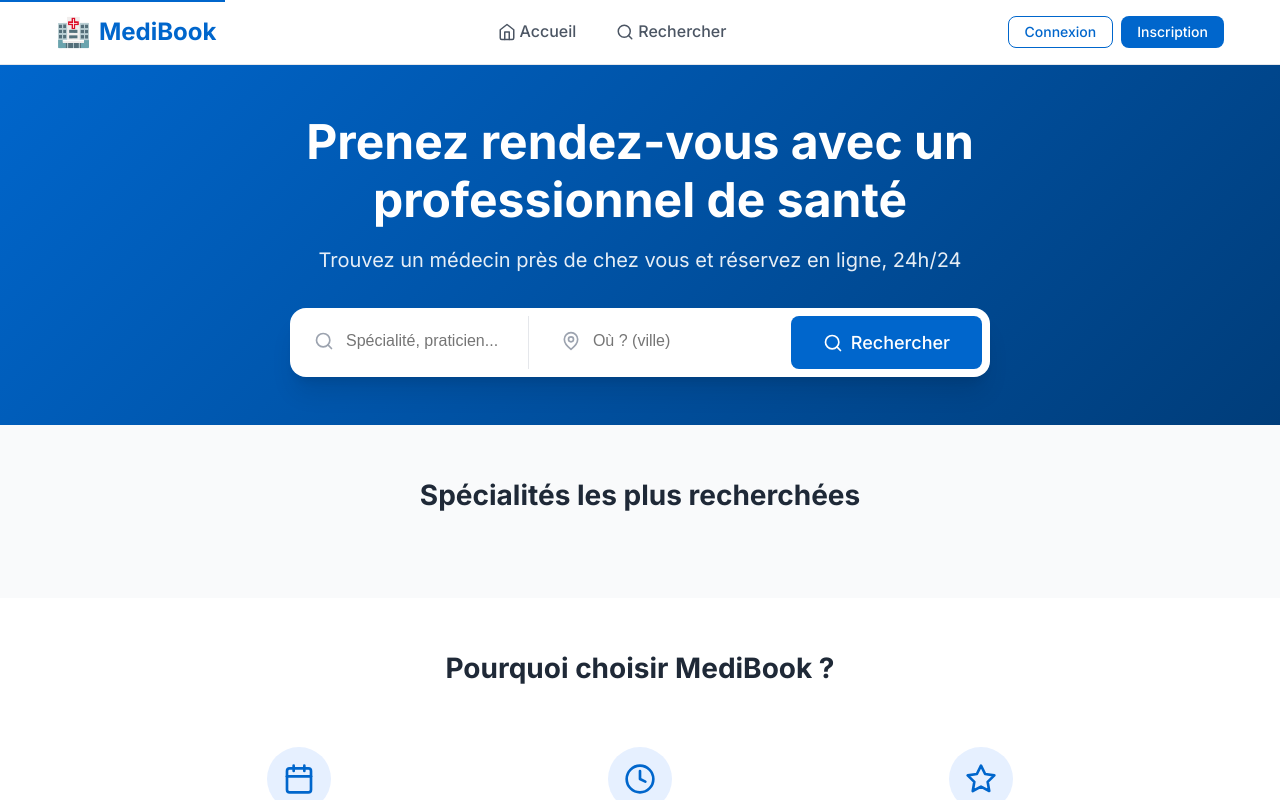
Recherche de praticien › Recherche sans résultat
This screenshot has width=1280, height=800.
Type "Cardiologue" into the field with id "search-specialty" at (413,341), box 298,316 -> 528,366
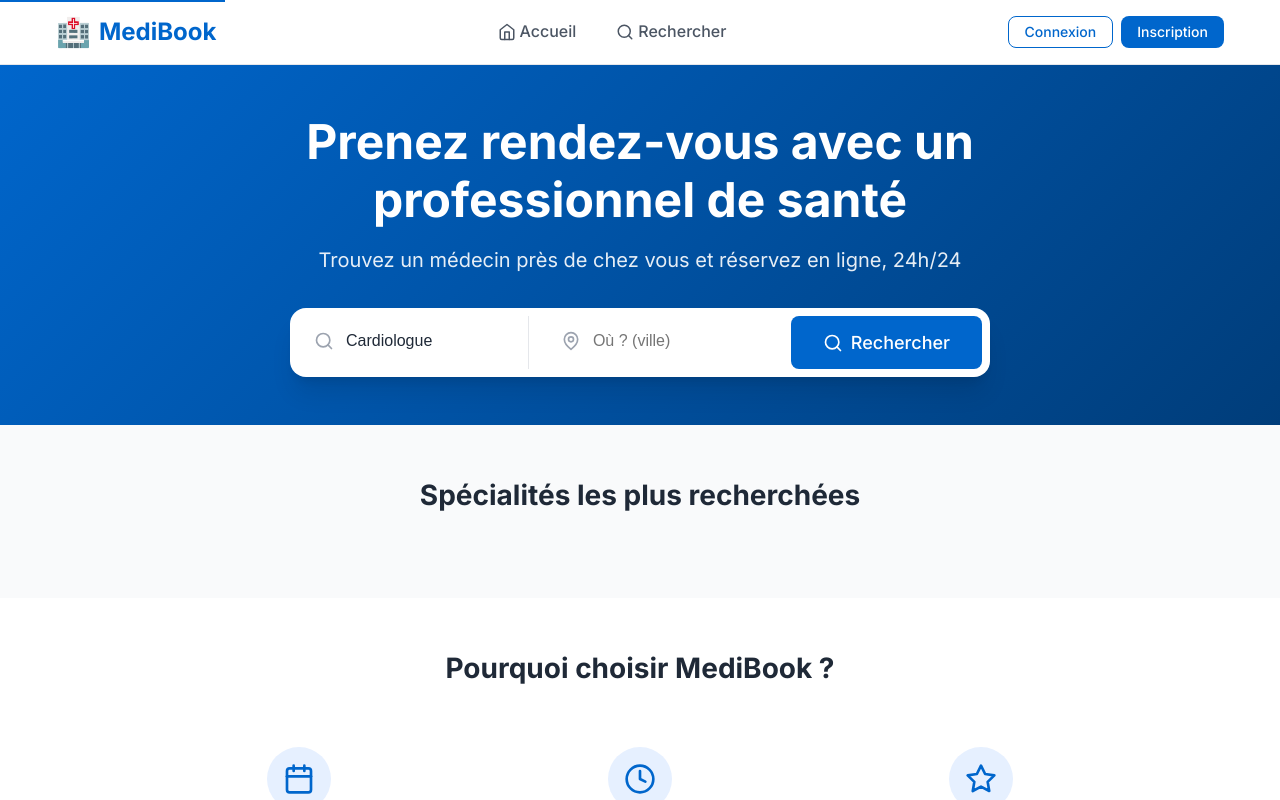
Type "Village Inexistant" into the field with id "search-city" at (660,341), box 545,316 -> 775,366
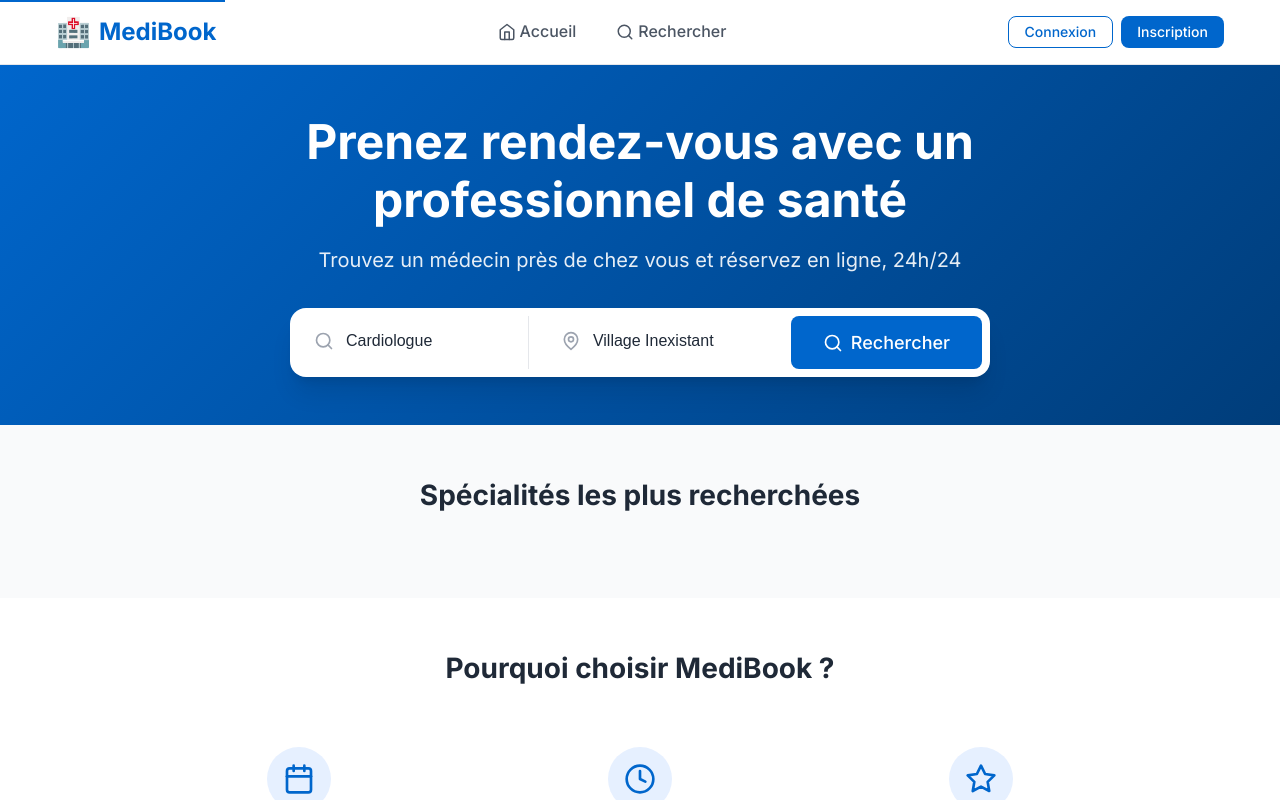
Click the submit button at (887,343), box 791,316 -> 982,369
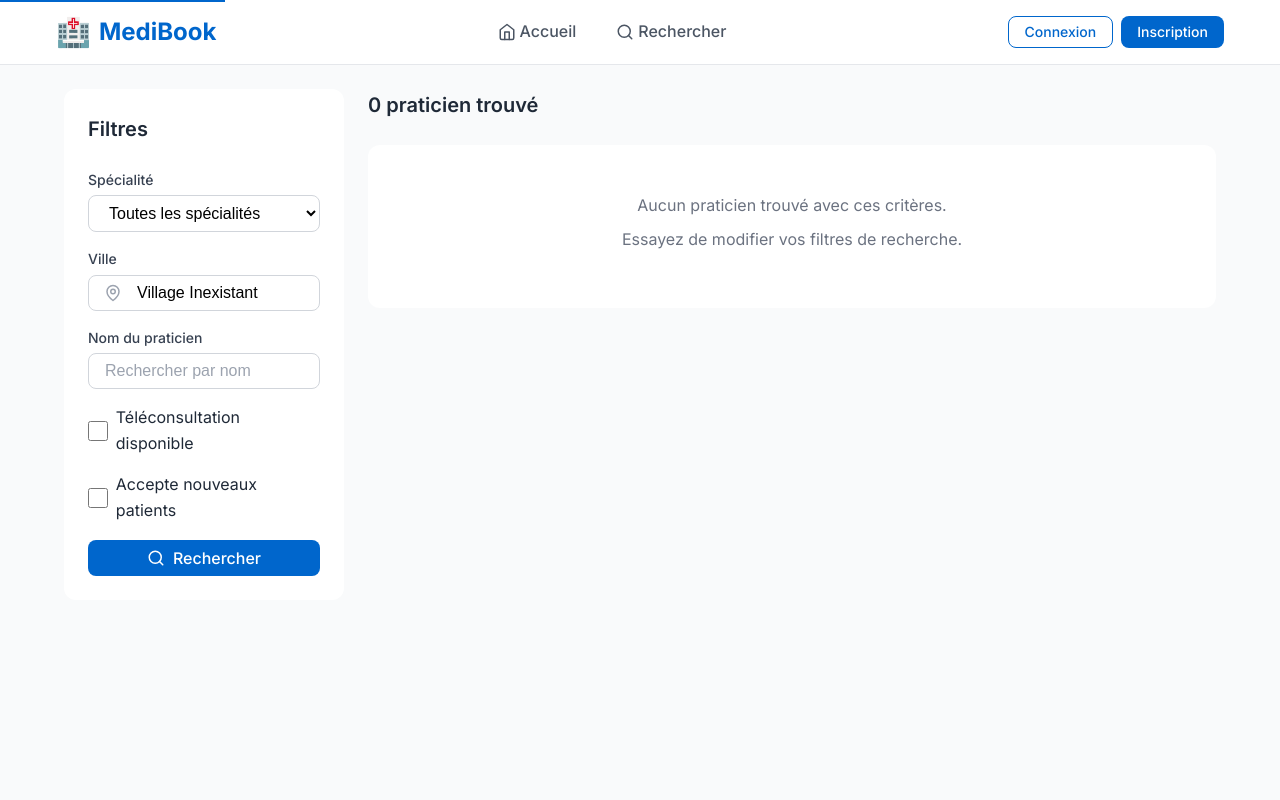
Result: the text "Aucun praticien trouvé avec ces critères." is shown at 637,195 -> 947,215
